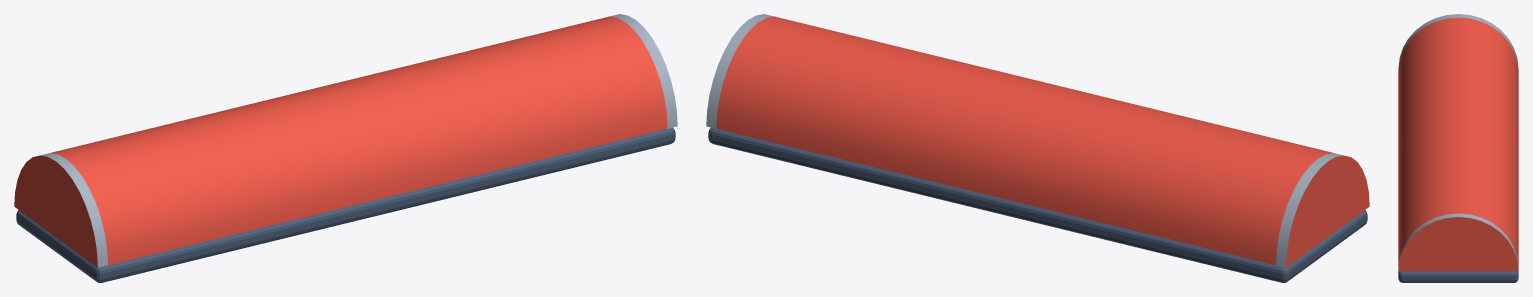
Rendered from AFJ_Simple_Gate_2Units.fbx.
The picture shows the model from 3 angles, left to right: view 1: azimuth 30°, elevation 25°; view 2: azimuth 150°, elevation 25°; view 3: azimuth 270°, elevation 25°; orthographic projection. The views are drawn at different scales.
Visible parts, largest first — view 1: Gate_LeftCorner_2Units_Arm_Left, Gate_LeftCorner_2Units_Arm_Right, Gate_LeftCorner_2Units_Base; view 2: Gate_LeftCorner_2Units_Arm_Left, Gate_LeftCorner_2Units_Arm_Right, Gate_LeftCorner_2Units_Base; view 3: Gate_LeftCorner_2Units_Arm_Right, Gate_LeftCorner_2Units_Arm_Left, Gate_LeftCorner_2Units_Base.
Boxes of the visible parts, x1=… form: Gate_LeftCorner_2Units_Arm_Left: x1=14, y1=84, x2=387, y2=267; Gate_LeftCorner_2Units_Arm_Right: x1=330, y1=14, x2=677, y2=196; Gate_LeftCorner_2Units_Base: x1=16, y1=127, x2=675, y2=282; Gate_LeftCorner_2Units_Arm_Left: x1=996, y1=84, x2=1369, y2=267; Gate_LeftCorner_2Units_Arm_Right: x1=706, y1=14, x2=1053, y2=196; Gate_LeftCorner_2Units_Base: x1=708, y1=127, x2=1367, y2=282; Gate_LeftCorner_2Units_Arm_Right: x1=1398, y1=115, x2=1518, y2=271; Gate_LeftCorner_2Units_Arm_Left: x1=1398, y1=14, x2=1518, y2=169; Gate_LeftCorner_2Units_Base: x1=1398, y1=271, x2=1518, y2=282.
Size of the model in its own units: 200 by 31 by 50.
